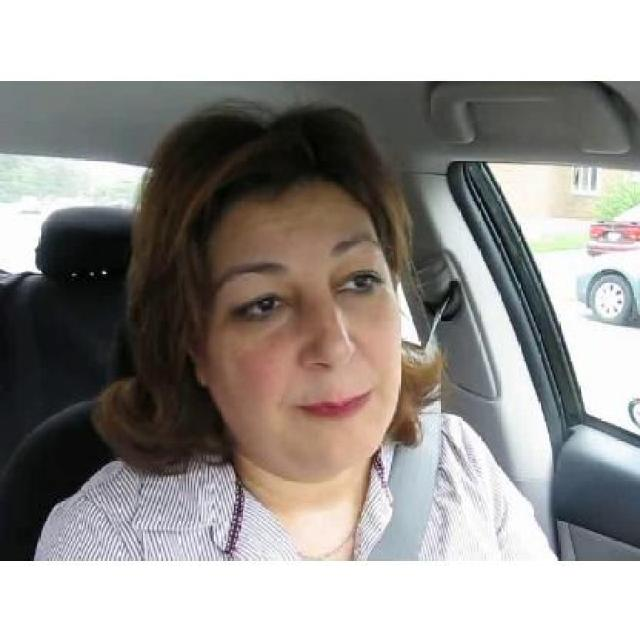attentif: (180, 108, 402, 474)
